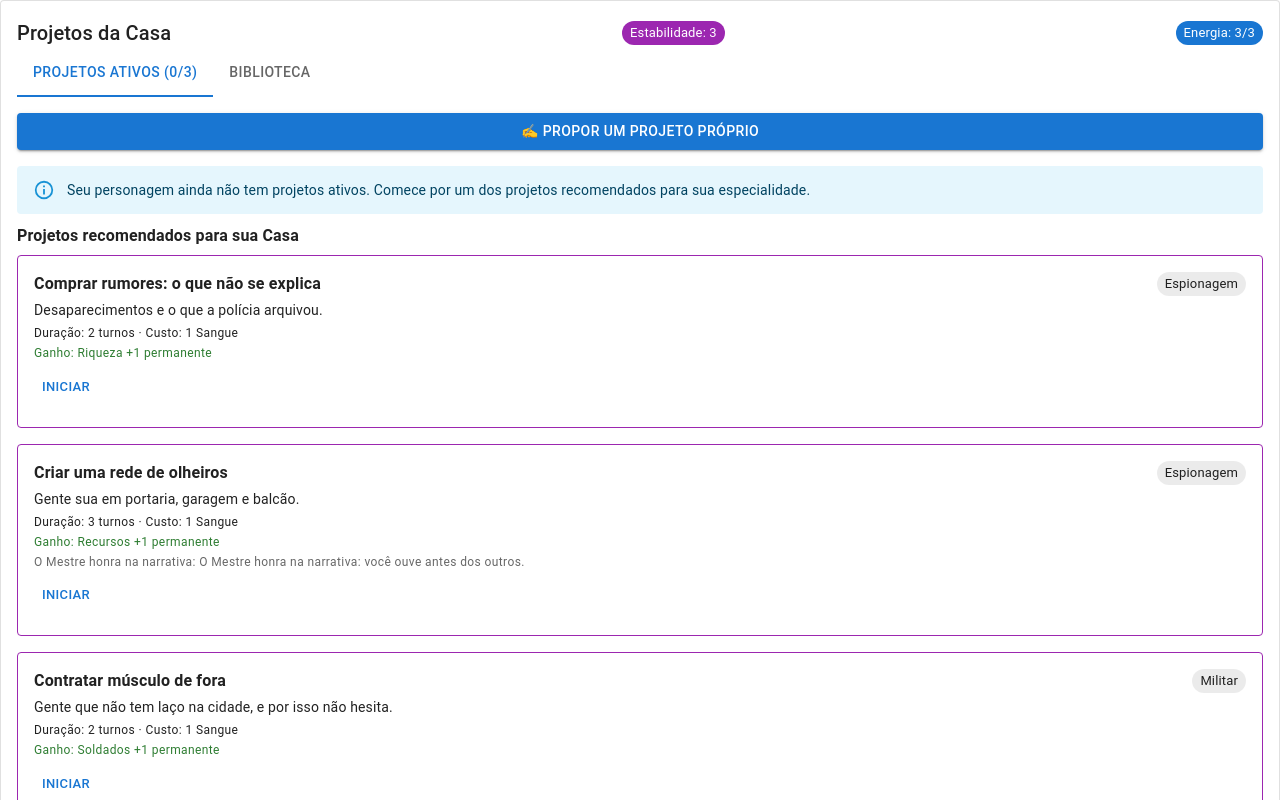
Scenario: HouseProjectsPanel mostra o ganho › mostra no projeto ativo o que está sendo construído
Click the tab "Biblioteca".
click(270, 73)  # box [213, 49, 326, 97]
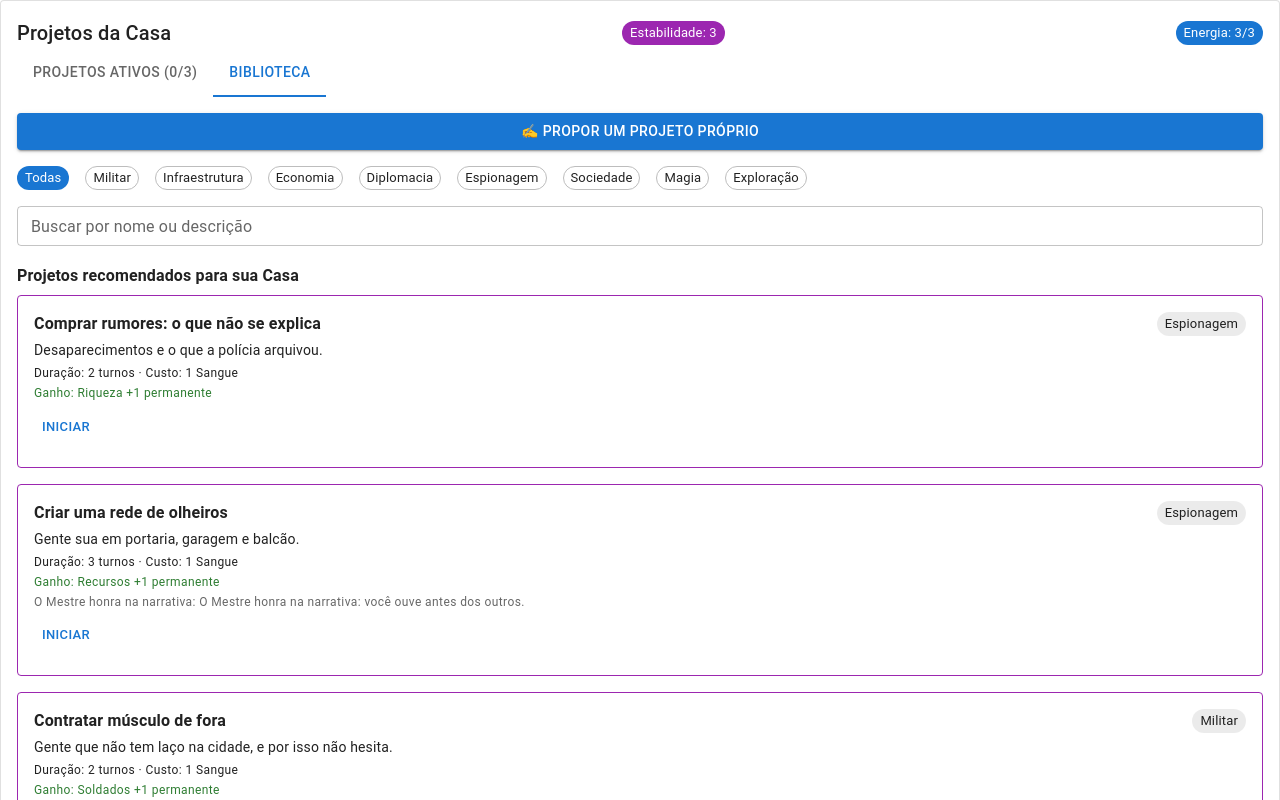
Click the 1st button "Iniciar".
click(66, 427)  # box [34, 412, 98, 443]
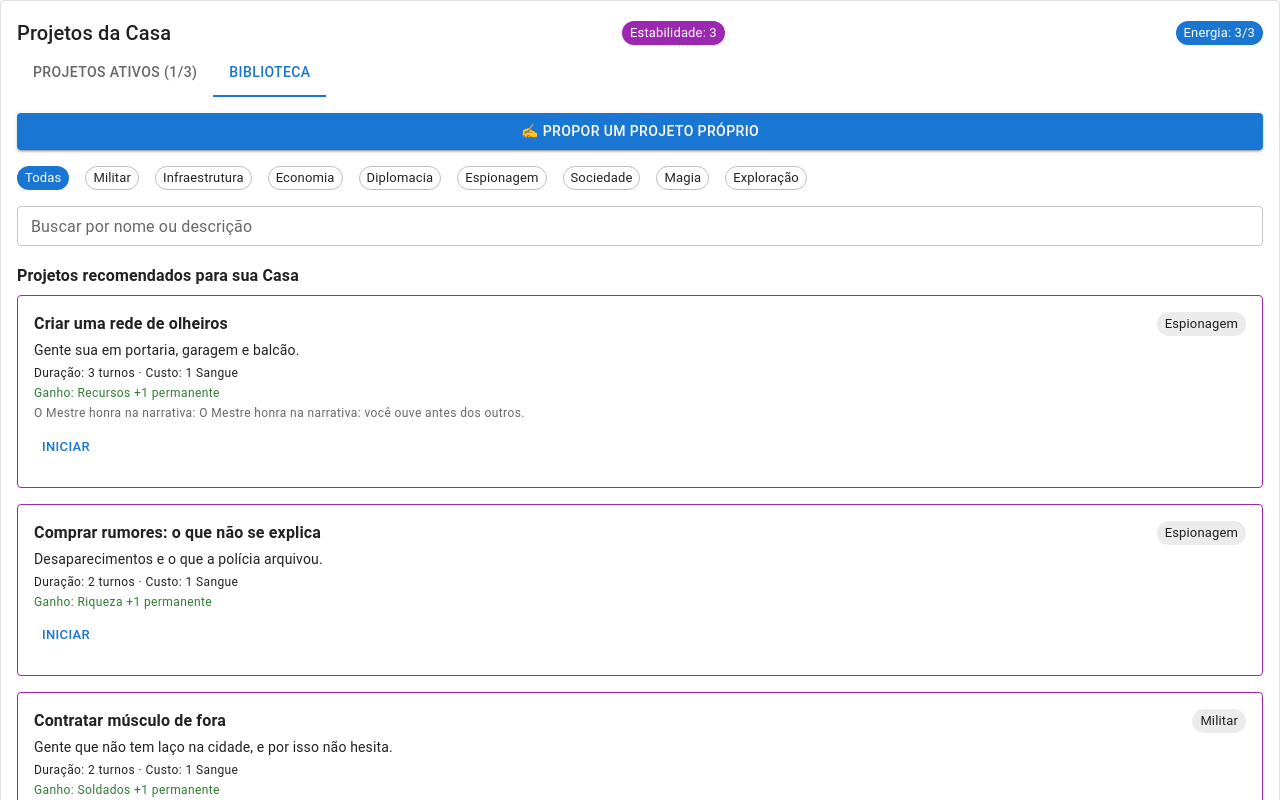
Check: the tab "Projetos Ativos (1/3)" is shown
Click the tab "Projetos Ativos (1/3)".
click(115, 73)  # box [17, 49, 213, 97]
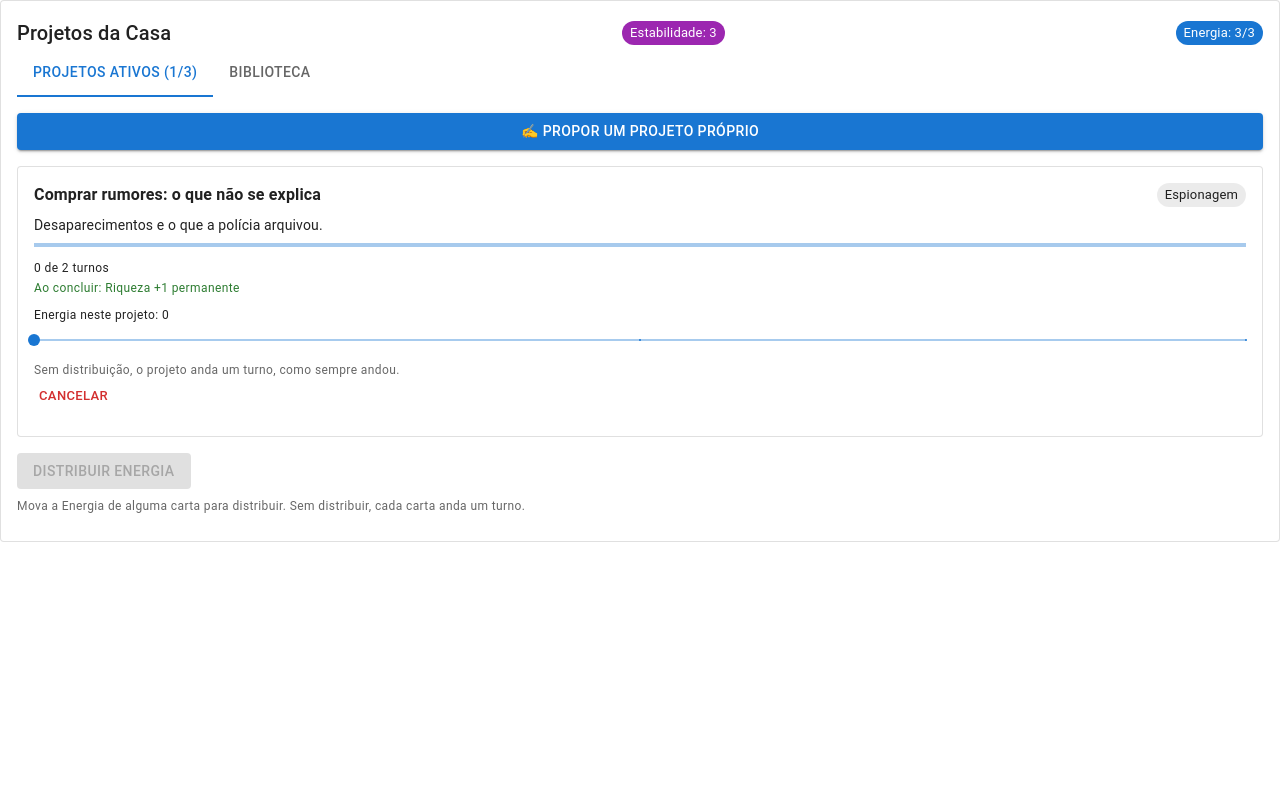
Check: the text "Ao concluir: Riqueza +1 permanente" is shown, box [34, 280, 240, 294]
